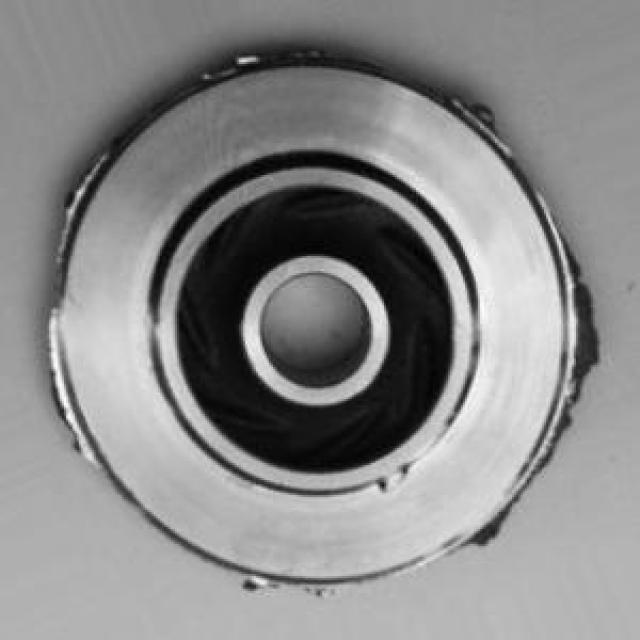Defect: (549, 271, 607, 382), (454, 81, 494, 134)
